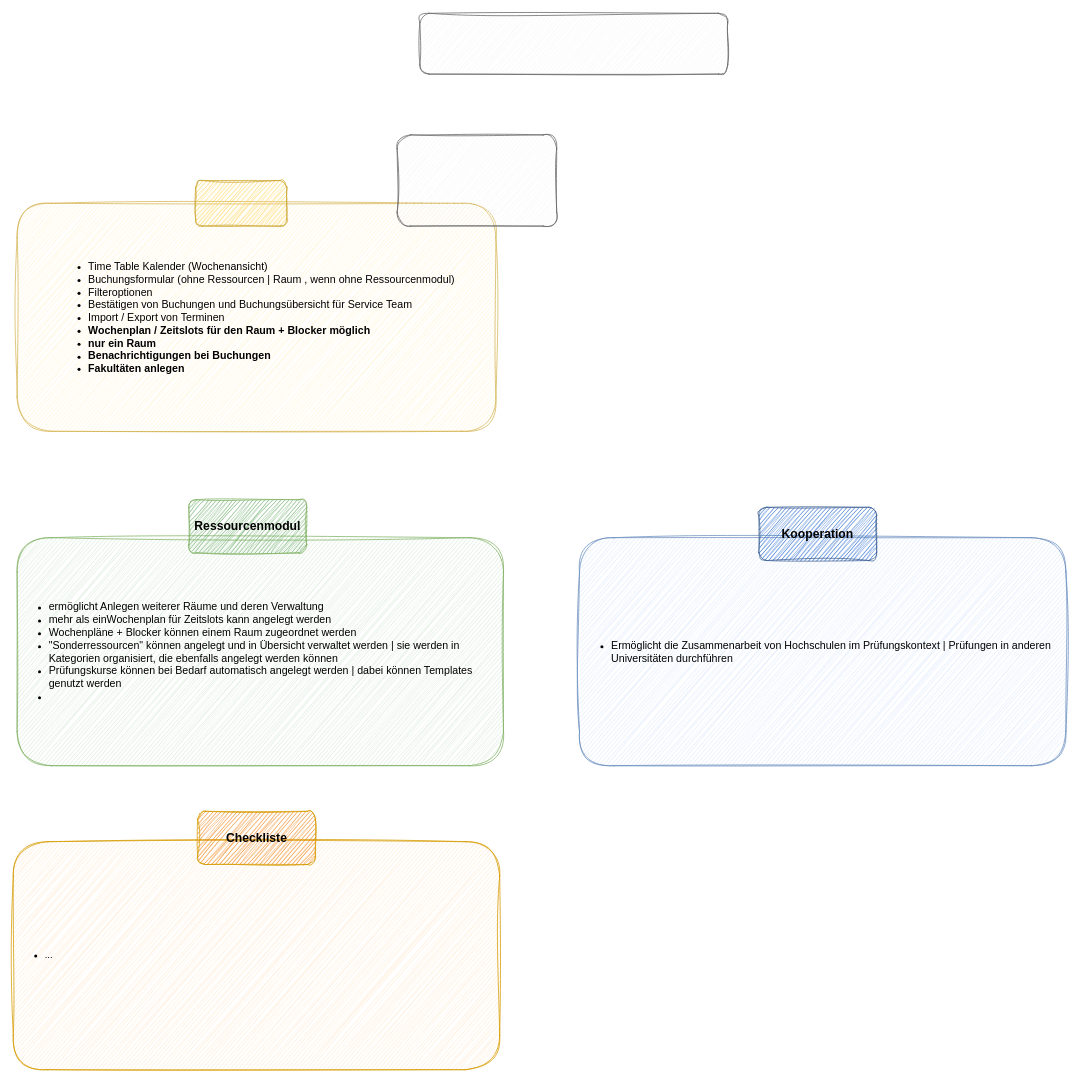
The diagram is 1079 pixels wide and 1083 high, and some of its shapes have lost their labels. Each missing label, with the centre of its shape:
"Darstellung aller Module und kurzzusammenfassung ihrer Funktionalitäten" belongs at (573,43).
"Kalender" belongs at (241,203).
"keine Basis ohne Kalender | Basis = Kalender" belongs at (476,180).
